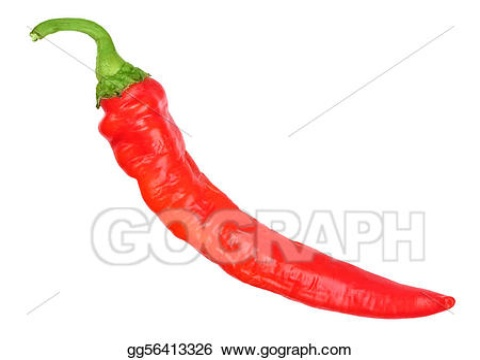Chilli: (27, 19, 459, 331)
